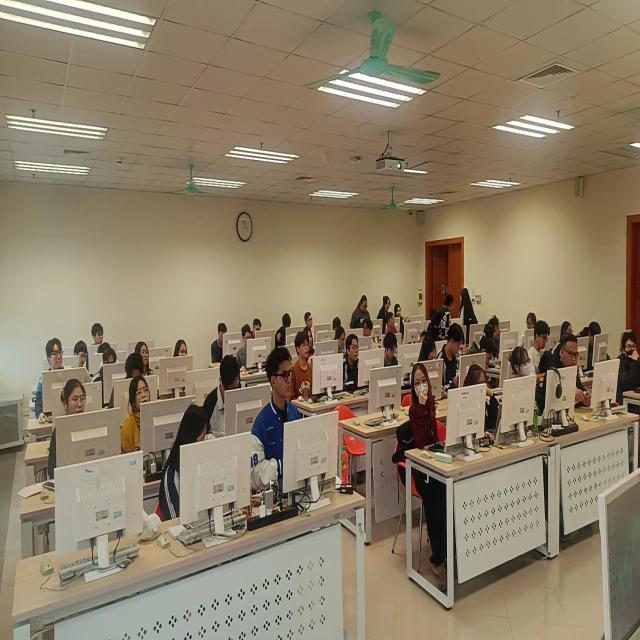raise_head: (250, 345, 306, 501), (405, 358, 445, 529), (48, 379, 94, 484), (549, 330, 587, 430), (507, 336, 544, 435), (34, 331, 69, 426), (121, 375, 160, 455), (612, 320, 640, 431), (287, 328, 320, 409), (343, 333, 365, 395), (173, 332, 193, 389), (132, 337, 153, 376), (393, 293, 408, 343), (88, 315, 107, 352), (302, 304, 316, 340), (305, 322, 318, 357), (383, 310, 398, 336)
stand: (459, 282, 480, 371), (430, 281, 456, 349), (349, 287, 373, 342), (377, 285, 392, 341)
using_computer: (155, 400, 218, 532), (201, 352, 243, 453), (461, 353, 500, 446), (437, 316, 467, 396), (580, 316, 608, 374), (92, 341, 117, 398), (69, 331, 94, 387), (379, 326, 402, 385), (118, 350, 144, 400), (554, 318, 578, 371), (236, 323, 257, 382), (272, 303, 295, 353), (210, 317, 231, 371), (418, 333, 439, 375), (251, 307, 265, 352), (333, 325, 348, 361), (94, 334, 111, 355), (331, 313, 342, 336)
